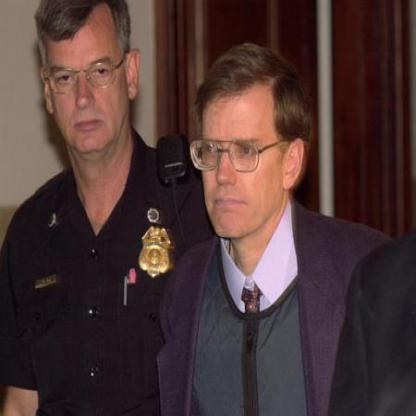face: (194, 56, 289, 245), (44, 1, 129, 158)
